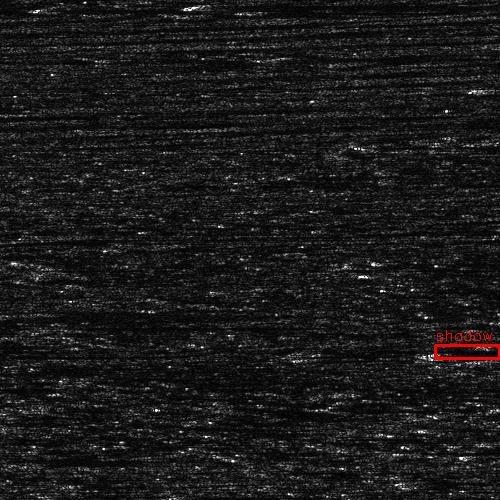rock: (0, 305, 129, 324), (360, 345, 500, 360), (424, 136, 500, 145), (49, 322, 122, 329), (450, 85, 500, 92), (0, 458, 25, 463), (470, 354, 481, 365), (482, 342, 500, 347), (221, 1, 232, 8)
shadow: (10, 305, 285, 324), (227, 1, 458, 8), (86, 322, 226, 329), (449, 345, 500, 360), (5, 458, 137, 463)
